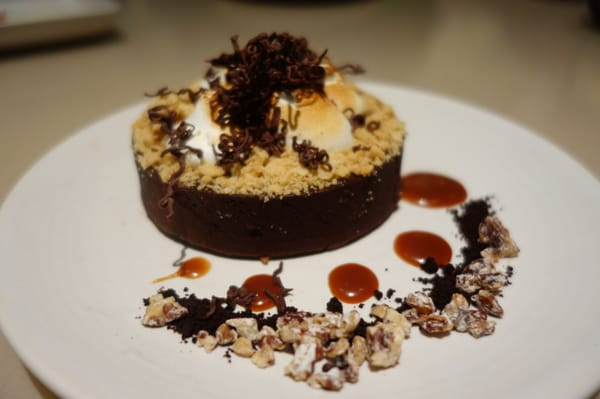curry: (2, 3, 571, 394)
sushi: (130, 31, 407, 258)
